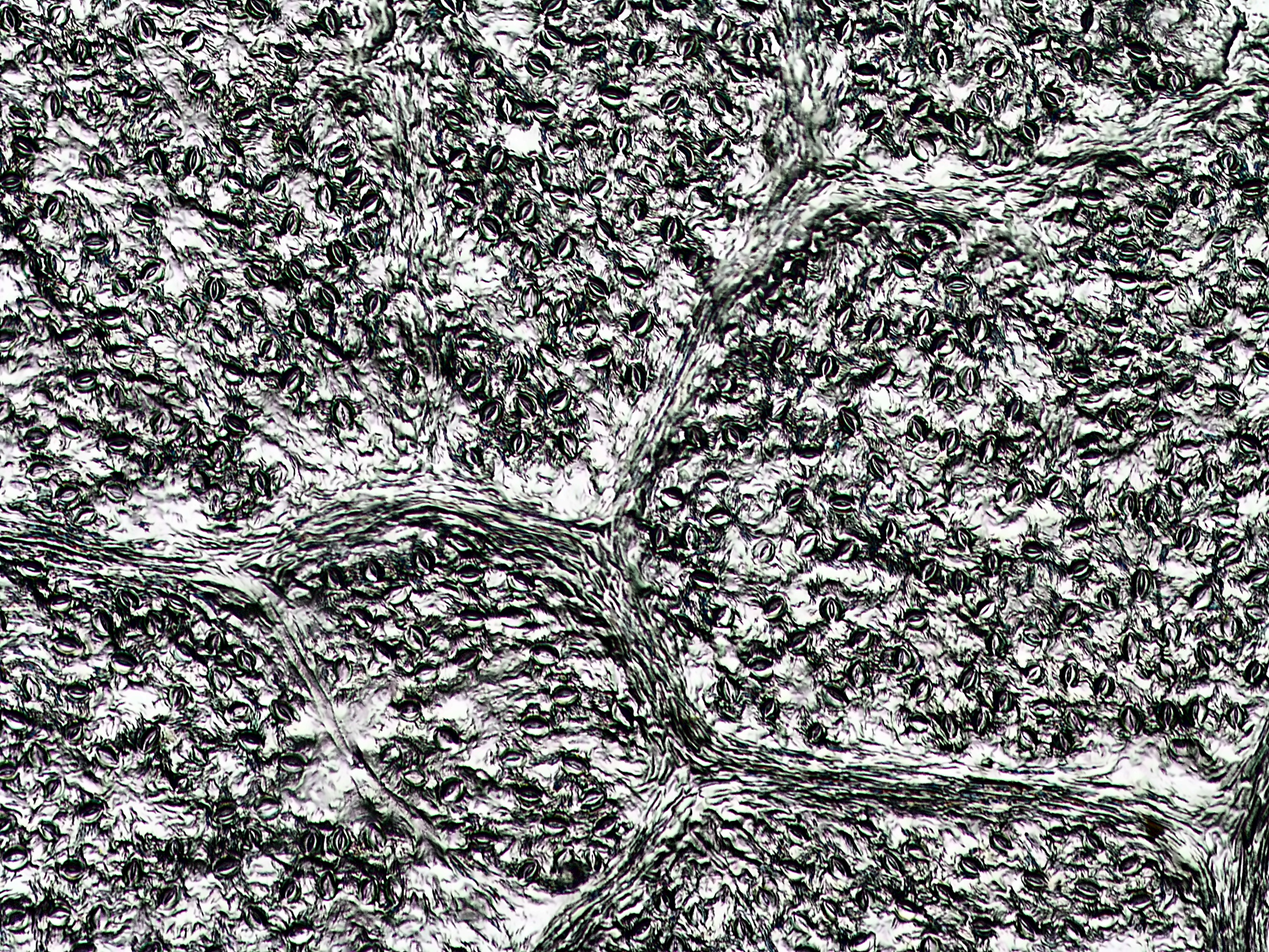stomata: (1118, 703, 1146, 735), (317, 6, 343, 37), (1155, 700, 1181, 731), (1185, 697, 1210, 729), (299, 825, 324, 856), (520, 282, 541, 318), (746, 654, 775, 680), (1221, 610, 1244, 642), (1, 845, 29, 871), (437, 778, 465, 804), (818, 595, 846, 621), (500, 606, 533, 628), (717, 675, 742, 704), (519, 240, 543, 270), (1131, 568, 1153, 600), (929, 44, 954, 72), (279, 365, 303, 394), (610, 700, 634, 729), (957, 365, 981, 394), (317, 282, 343, 308), (762, 594, 788, 620), (132, 14, 156, 42), (864, 313, 888, 341), (838, 407, 862, 435), (892, 255, 921, 278), (331, 398, 354, 427), (968, 313, 989, 344), (700, 471, 731, 492), (911, 134, 936, 160), (659, 217, 684, 243), (537, 343, 563, 368), (822, 684, 848, 709), (928, 377, 953, 403), (485, 145, 509, 172), (929, 331, 956, 355), (873, 360, 897, 387), (480, 400, 504, 427), (322, 565, 346, 592), (598, 86, 626, 109), (213, 855, 241, 878), (18, 674, 41, 702), (498, 92, 518, 124), (362, 290, 384, 319), (0, 707, 29, 729), (520, 715, 549, 737), (315, 182, 336, 212), (434, 726, 459, 751), (1004, 480, 1029, 505), (139, 261, 165, 285), (1195, 641, 1219, 667), (468, 52, 491, 79), (256, 798, 283, 821), (372, 638, 395, 665), (558, 429, 578, 460), (41, 91, 63, 119), (138, 308, 160, 336), (1069, 48, 1091, 76), (1, 910, 29, 932), (849, 661, 871, 689), (659, 487, 687, 509), (1111, 346, 1139, 368), (1076, 188, 1105, 209), (1118, 490, 1139, 519), (1190, 185, 1215, 209), (709, 90, 733, 115), (690, 186, 715, 210), (208, 442, 232, 467), (330, 825, 350, 855), (1060, 601, 1084, 626), (91, 610, 114, 636), (60, 858, 86, 881), (288, 922, 314, 945), (828, 855, 851, 881), (1177, 525, 1200, 551), (364, 823, 386, 850), (909, 676, 931, 703), (333, 654, 352, 685), (529, 646, 560, 665), (290, 309, 311, 337), (1226, 701, 1247, 729), (712, 13, 732, 42), (516, 198, 536, 227), (626, 363, 646, 392), (459, 609, 488, 629), (506, 572, 535, 592), (477, 217, 501, 241), (660, 90, 684, 114), (320, 340, 344, 364), (349, 605, 373, 629), (1190, 585, 1214, 609), (723, 423, 747, 447), (593, 218, 616, 243), (244, 904, 267, 929), (403, 626, 428, 649), (455, 648, 480, 671), (989, 831, 1012, 856), (1093, 674, 1116, 699), (835, 539, 860, 562), (1154, 657, 1177, 682), (525, 54, 551, 76), (984, 57, 1010, 79), (450, 187, 476, 209), (28, 742, 50, 768), (237, 730, 263, 752), (458, 565, 484, 587), (878, 518, 900, 544), (1066, 516, 1092, 538), (772, 336, 794, 362), (184, 145, 203, 175), (16, 560, 46, 579), (1122, 633, 1141, 663), (671, 143, 692, 170), (249, 469, 270, 496), (122, 858, 143, 885), (959, 856, 986, 877), (939, 427, 960, 454), (278, 754, 306, 774), (365, 557, 385, 585), (551, 686, 579, 706), (848, 932, 876, 952), (705, 509, 733, 529), (977, 436, 997, 464), (111, 38, 135, 61), (360, 193, 383, 217), (1028, 28, 1051, 52), (630, 312, 654, 335), (547, 389, 571, 412), (80, 801, 104, 824), (654, 890, 677, 914), (752, 539, 776, 562), (914, 306, 933, 335), (1131, 73, 1156, 95), (1146, 205, 1171, 227), (139, 725, 161, 750), (280, 878, 302, 903), (0, 7, 21, 33), (68, 280, 89, 306), (327, 240, 348, 266), (970, 91, 991, 117), (510, 430, 531, 456), (168, 683, 189, 709), (732, 915, 753, 941), (1218, 541, 1244, 562), (554, 233, 574, 260), (158, 884, 178, 911), (385, 876, 403, 906), (881, 849, 901, 876), (1016, 914, 1036, 941), (1060, 662, 1080, 689), (1246, 659, 1266, 686), (319, 870, 338, 898), (513, 394, 536, 417), (96, 745, 119, 768), (630, 919, 653, 942), (244, 265, 268, 287), (586, 277, 610, 299), (1063, 918, 1085, 942), (796, 532, 818, 556), (904, 609, 928, 631), (1158, 620, 1180, 644), (459, 333, 490, 350), (1018, 120, 1039, 145), (1126, 42, 1151, 63), (398, 364, 419, 389), (211, 667, 232, 692), (387, 584, 412, 605), (894, 900, 919, 921), (674, 614, 695, 639), (189, 70, 215, 90), (833, 304, 853, 330), (402, 766, 428, 786), (1113, 273, 1139, 293), (11, 136, 38, 155), (836, 17, 855, 44), (105, 482, 132, 501), (690, 569, 717, 588), (908, 415, 927, 442), (881, 25, 904, 47), (854, 63, 876, 86), (896, 65, 918, 88), (911, 96, 933, 119), (1109, 214, 1131, 237), (622, 265, 645, 287), (643, 163, 665, 186), (461, 447, 484, 469), (58, 418, 81, 440), (38, 820, 61, 842), (414, 548, 436, 571), (1068, 559, 1091, 581), (984, 632, 1007, 654), (1243, 259, 1267, 280), (908, 231, 932, 252), (259, 336, 280, 360), (593, 816, 617, 837), (782, 861, 806, 882), (649, 524, 670, 548), (70, 38, 90, 63), (71, 371, 96, 391), (587, 348, 613, 367), (223, 412, 249, 431), (1021, 872, 1047, 891), (1127, 892, 1153, 911), (1211, 510, 1237, 529), (540, 817, 569, 834), (148, 147, 166, 174), (1163, 70, 1185, 92), (588, 178, 610, 200), (48, 907, 70, 929), (972, 917, 994, 939), (25, 41, 48, 62), (81, 87, 102, 110), (181, 31, 204, 52), (552, 142, 575, 163), (742, 33, 763, 56), (706, 137, 729, 158), (222, 363, 245, 384), (214, 804, 237, 825), (415, 663, 438, 684), (399, 699, 422, 720), (518, 861, 539, 884), (1118, 855, 1141, 876), (892, 646, 913, 669), (712, 606, 735, 627), (286, 259, 306, 283), (205, 277, 225, 301), (27, 299, 51, 319), (632, 41, 652, 65), (626, 199, 646, 223), (141, 452, 161, 476), (360, 879, 380, 903), (785, 824, 809, 844), (1018, 727, 1038, 751), (796, 447, 820, 467), (274, 95, 299, 114), (281, 210, 300, 235), (25, 461, 50, 480), (236, 649, 255, 674), (1065, 305, 1090, 324), (91, 153, 109, 179), (97, 308, 123, 326), (234, 109, 260, 127), (1142, 496, 1160, 522), (48, 4, 69, 26), (329, 146, 351, 167), (188, 744, 209, 766), (271, 700, 292, 722), (1082, 832, 1104, 853), (908, 712, 929, 734), (769, 397, 790, 419), (210, 324, 230, 347), (62, 327, 85, 347), (855, 888, 875, 911), (755, 889, 778, 909), (807, 722, 827, 745), (869, 454, 889, 477), (449, 147, 469, 170), (612, 127, 629, 154), (533, 102, 557, 121), (860, 112, 884, 131), (44, 776, 63, 800), (228, 701, 252, 720), (131, 204, 156, 222), (562, 756, 587, 774), (1030, 701, 1058, 717), (828, 494, 856, 510), (510, 353, 527, 379), (973, 709, 990, 735), (951, 569, 968, 595), (174, 642, 195, 663), (1167, 478, 1188, 499), (1042, 88, 1064, 108), (464, 371, 484, 393), (26, 429, 48, 449), (760, 698, 780, 720), (1097, 588, 1117, 610), (442, 111, 465, 130), (688, 904, 707, 927), (1246, 568, 1269, 587), (1240, 179, 1267, 195), (943, 277, 970, 293), (145, 612, 163, 636), (500, 750, 524, 768), (821, 898, 839, 922), (855, 820, 879, 838), (941, 714, 959, 738), (682, 522, 698, 549), (53, 636, 78, 653), (111, 653, 136, 670), (65, 684, 90, 701), (1075, 880, 1100, 897), (1200, 464, 1217, 489), (936, 883, 956, 904), (791, 912, 811, 933), (684, 426, 705, 446), (262, 176, 281, 198), (167, 592, 186, 614), (1022, 542, 1044, 561), (82, 235, 108, 251), (91, 904, 107, 930), (676, 34, 694, 57), (549, 187, 572, 205), (784, 489, 807, 507), (984, 551, 1002, 574), (1152, 411, 1175, 429), (1154, 285, 1177, 303), (818, 355, 835, 379), (585, 849, 602, 873), (240, 299, 260, 319), (1153, 167, 1178, 183), (1066, 711, 1086, 731), (906, 488, 926, 508), (1075, 246, 1096, 265), (204, 632, 225, 651), (787, 632, 808, 651), (848, 629, 869, 648), (1046, 477, 1065, 498), (379, 744, 401, 762), (906, 844, 928, 862), (921, 560, 939, 582), (181, 299, 198, 322), (49, 593, 72, 610), (1070, 368, 1093, 385), (48, 252, 64, 276), (107, 435, 131, 451), (517, 785, 541, 801), (581, 791, 605, 807), (1056, 728, 1072, 752), (956, 527, 972, 551), (351, 231, 371, 250), (950, 113, 969, 133), (1218, 150, 1237, 170), (151, 413, 170, 433), (222, 492, 242, 511), (63, 722, 82, 742), (43, 198, 61, 219), (111, 277, 132, 295), (344, 169, 362, 190), (1239, 435, 1260, 453), (1158, 337, 1179, 355), (1174, 442, 1199, 457), (133, 86, 155, 103), (1218, 386, 1240, 403), (960, 666, 977, 688), (1080, 449, 1102, 466), (1104, 318, 1126, 335), (274, 45, 297, 61), (167, 836, 183, 859), (1023, 665, 1042, 684), (220, 139, 240, 157), (288, 137, 306, 157), (557, 850, 575, 870), (977, 600, 995, 620), (1004, 397, 1022, 417), (1109, 408, 1127, 428), (553, 298, 570, 319), (1136, 377, 1157, 394), (0, 173, 22, 189), (471, 833, 496, 847), (580, 117, 598, 136), (1177, 377, 1196, 395), (245, 827, 263, 846), (579, 35, 603, 49), (57, 485, 78, 501), (75, 508, 96, 524), (120, 590, 139, 607), (1211, 234, 1234, 248), (1246, 606, 1269, 620), (1023, 631, 1043, 647), (996, 690, 1011, 711), (1210, 292, 1228, 309), (1118, 241, 1138, 256), (14, 218, 30, 236), (1210, 339, 1226, 353)
